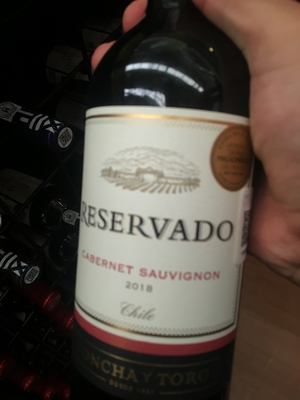reservado cabernet sauvignon: (75, 3, 252, 400)
